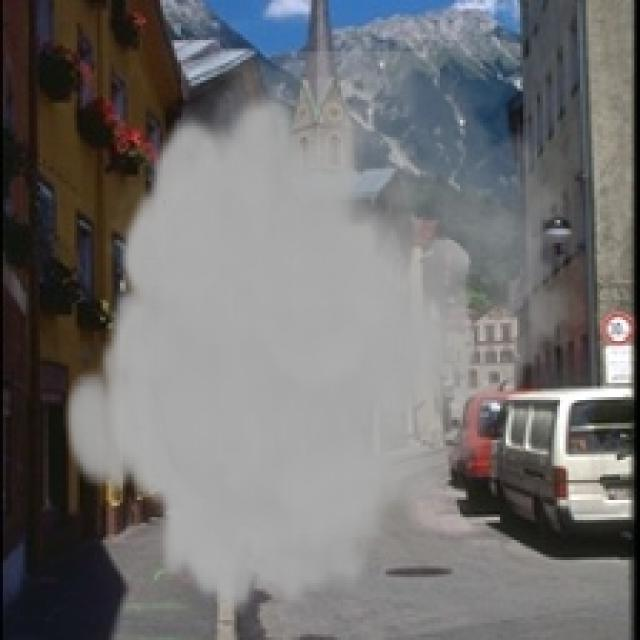Smoke: (60, 52, 589, 618)
